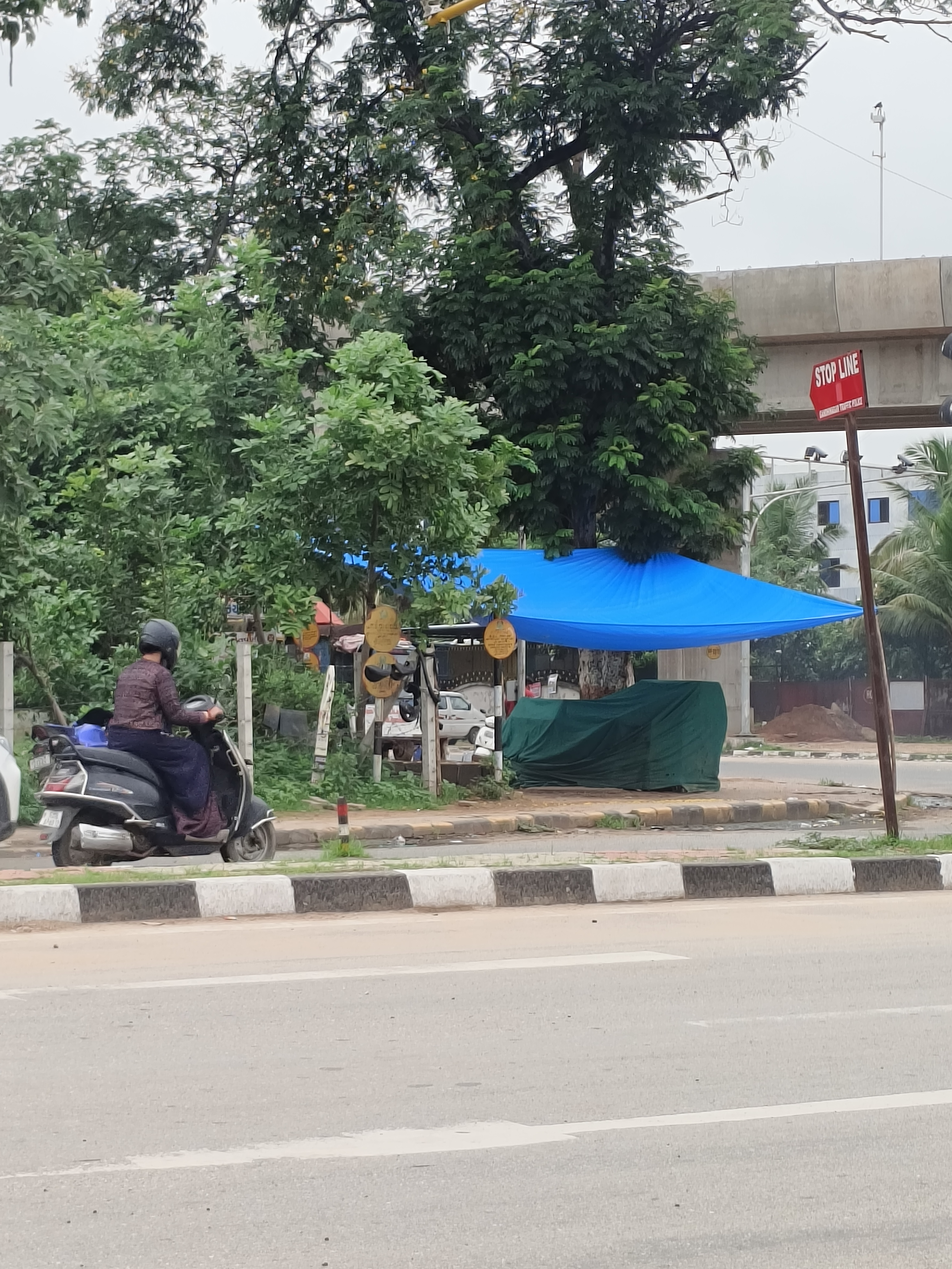BikeWithRider: (26, 614, 304, 876)
Helmet: (128, 614, 188, 666)
